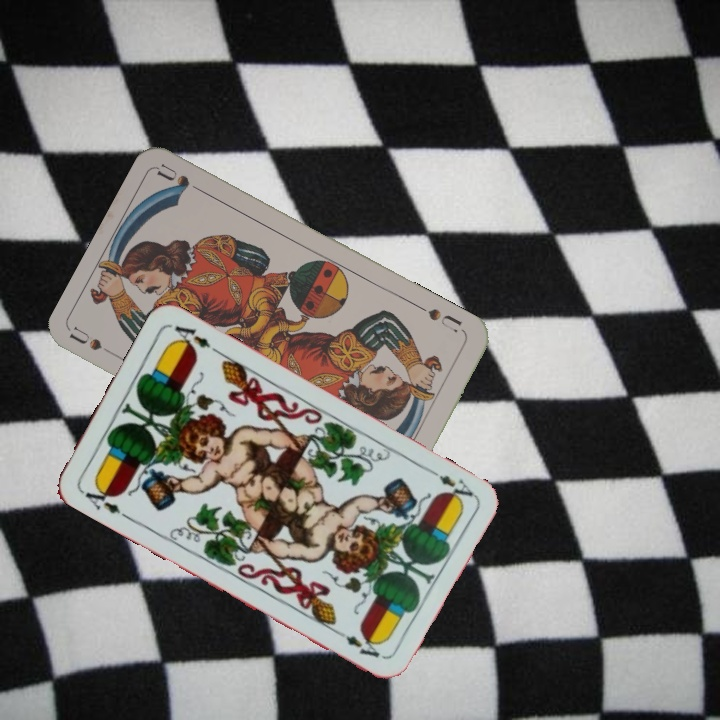EA: (422, 464, 476, 505), (81, 480, 123, 517)
SU: (67, 323, 124, 361), (413, 301, 464, 335)
